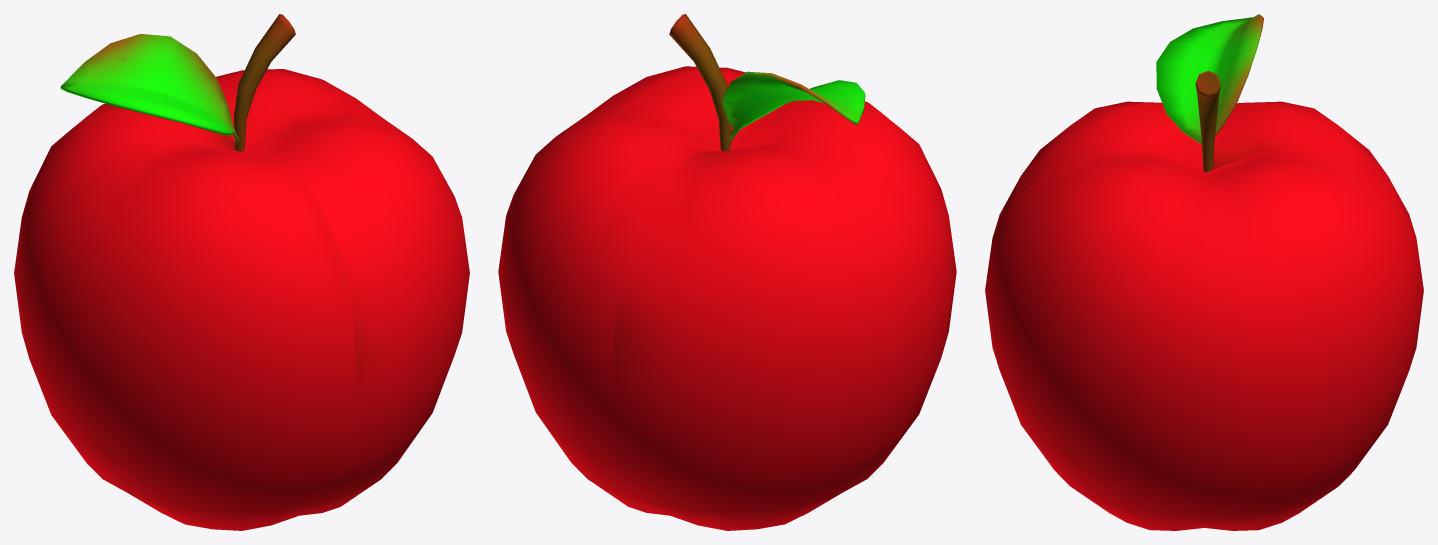
File: AppleLeaf.dae
The picture shows the model from 3 angles, left to right: view 1: azimuth 30°, elevation 25°; view 2: azimuth 150°, elevation 25°; view 3: azimuth 270°, elevation 25°; orthographic projection. The views are drawn at different scales.
Visible parts, largest first — view 1: Apple; view 2: Apple; view 3: Apple.
Boxes of the visible parts, box(x1,y1,x2,y2) form: Apple: box(14, 14, 469, 530); Apple: box(498, 14, 956, 530); Apple: box(985, 14, 1423, 530).
Size of the model in its own units: 79.89 by 79.89 by 91.12.
Materials: 1 (1 with a texture image).
